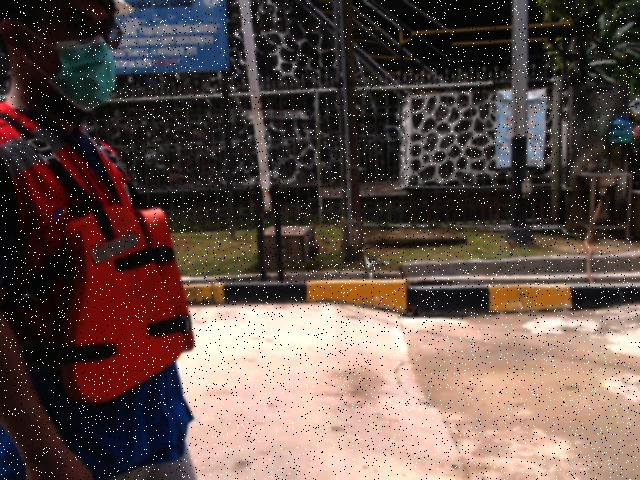mask: (48, 38, 124, 116)
vest: (44, 198, 200, 409)
